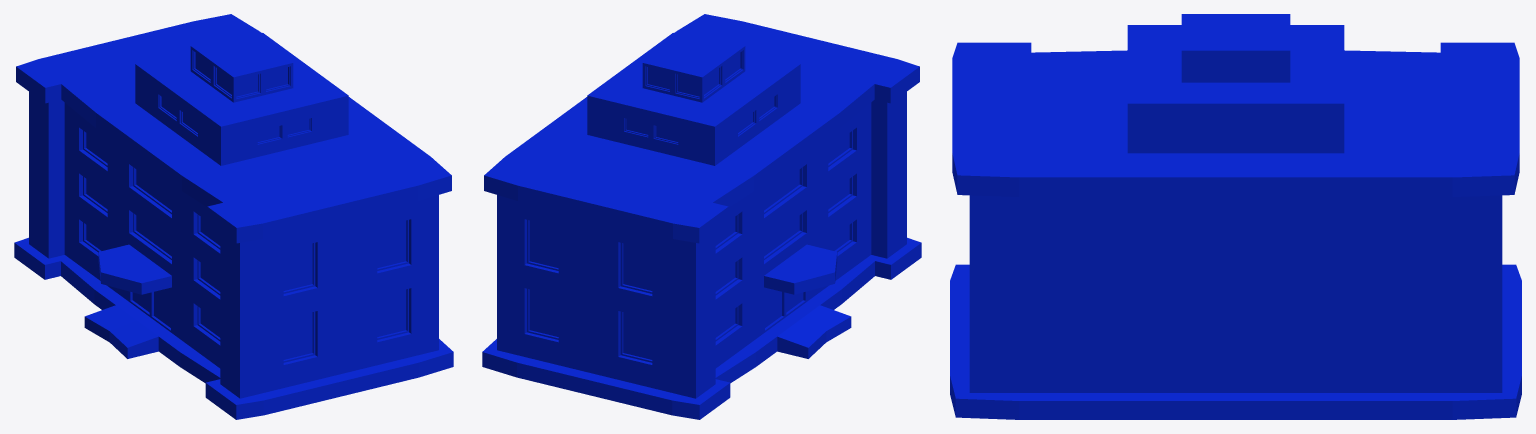
Rendered from CityHall.fbx.
The picture shows the model from 3 angles, left to right: view 1: azimuth 30°, elevation 25°; view 2: azimuth 150°, elevation 25°; view 3: azimuth 270°, elevation 25°; orthographic projection. The views are drawn at different scales.
Parts seen in each view (by area): view 1: CityHall; view 2: CityHall; view 3: CityHall.
Part boxes in pixels (x1,y1,x2,y2): CityHall: (14, 14, 453, 419); CityHall: (482, 14, 921, 419); CityHall: (950, 14, 1521, 419).
Bounding box in the file's own units: 329 × 327 × 525.
